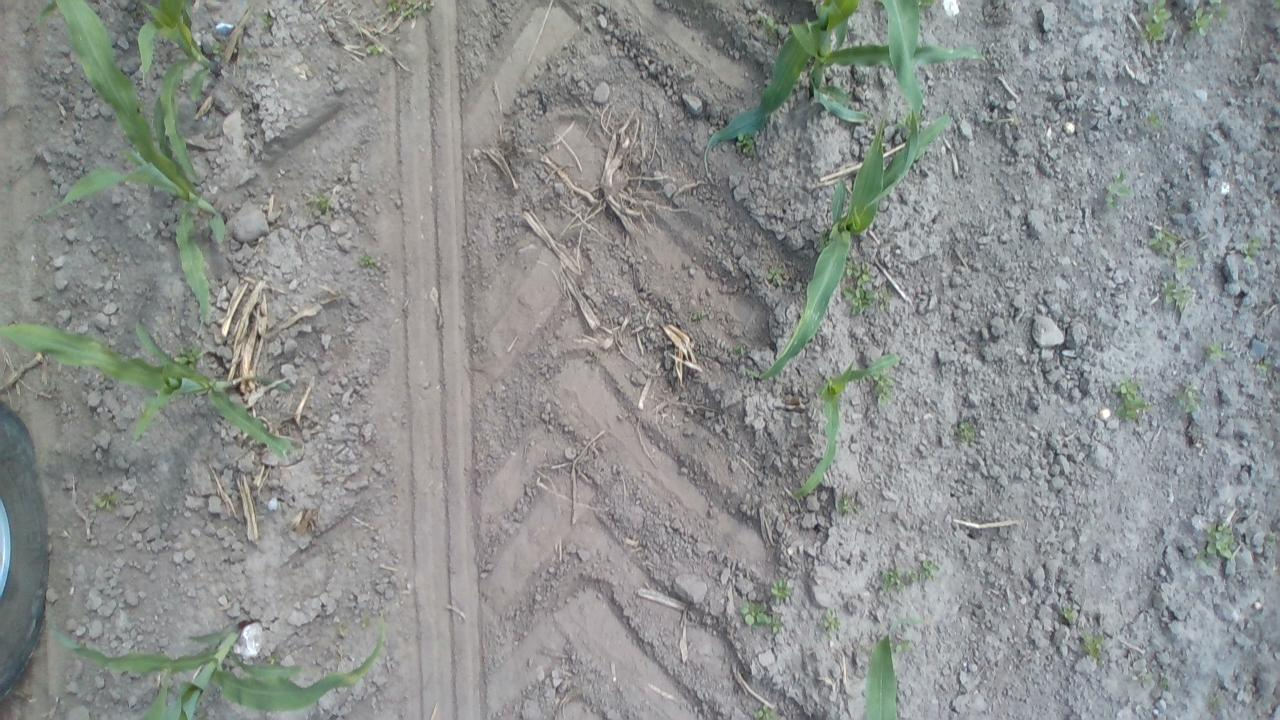Maize: (35, 1, 233, 336), (746, 98, 956, 384), (700, 3, 980, 184), (0, 306, 306, 466), (38, 618, 400, 720), (786, 350, 904, 510), (133, 1, 236, 95), (874, 0, 934, 122), (856, 622, 920, 720)
Weeds: (845, 261, 890, 319), (1144, 224, 1198, 272), (876, 558, 942, 594), (1110, 374, 1152, 426), (739, 596, 786, 639), (1196, 520, 1238, 568), (1186, 1, 1230, 38), (1098, 168, 1136, 210), (1139, 0, 1173, 46), (1075, 627, 1109, 668), (380, 0, 440, 23), (1158, 278, 1196, 314), (764, 258, 796, 298), (751, 11, 788, 40), (868, 373, 898, 408), (1175, 380, 1202, 418), (306, 190, 338, 221), (90, 487, 126, 514), (818, 606, 844, 642), (733, 130, 761, 163), (1140, 666, 1174, 692), (769, 574, 796, 606), (833, 494, 867, 519), (1142, 108, 1168, 136), (890, 608, 929, 626), (356, 251, 384, 276), (1242, 235, 1266, 264), (954, 416, 980, 442), (729, 334, 755, 360), (1204, 338, 1228, 366), (258, 7, 281, 36), (749, 701, 784, 719), (361, 40, 389, 62), (1059, 603, 1083, 628), (890, 636, 920, 656), (1252, 355, 1273, 377), (1206, 691, 1228, 712), (1262, 528, 1277, 556), (241, 43, 261, 62), (358, 614, 373, 632)
